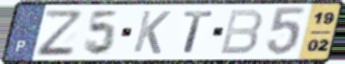5: (264, 5, 307, 59), (81, 8, 123, 57)
B: (217, 8, 264, 56)
K: (131, 9, 174, 56)
T: (181, 9, 216, 55)
Z: (35, 8, 83, 58)
